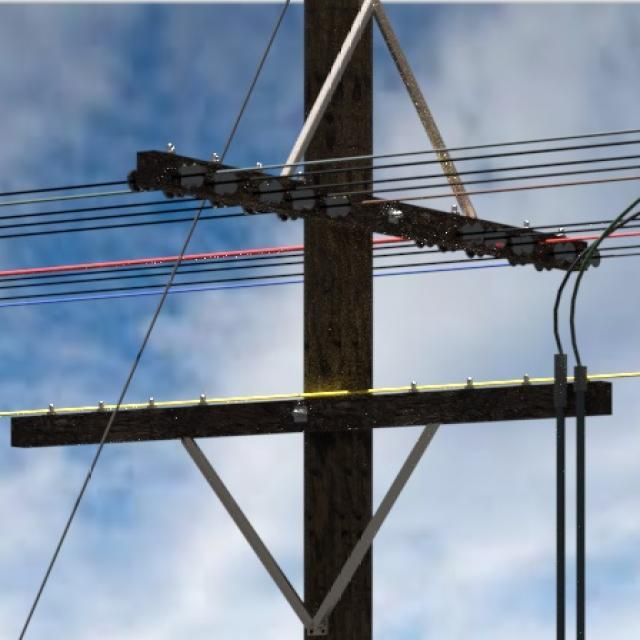crossarm: (11, 380, 616, 636), (129, 5, 606, 272)
pole: (294, 0, 373, 640)
